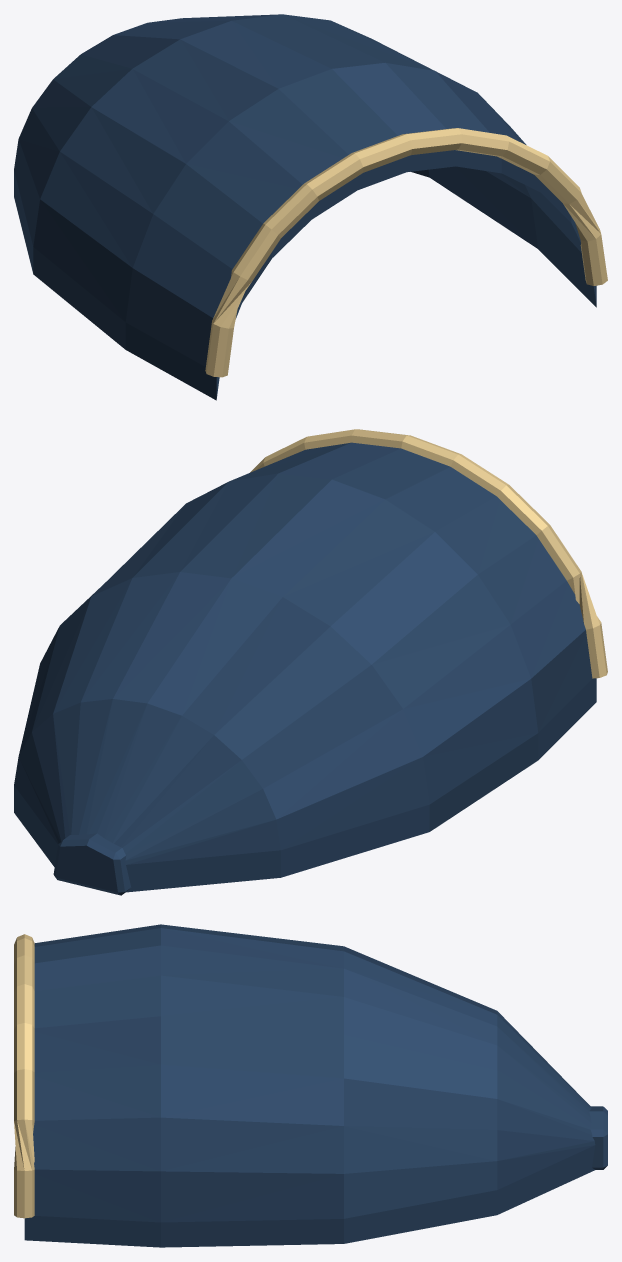
File: ES_07_Tailored_Closed_Vamp.fbx
3 views of the same model, one above another, from view 1: azimuth 30°, elevation 25°; view 2: azimuth 150°, elevation 25°; view 3: azimuth 270°, elevation 25° (orthographic). The views are drawn at different scales.
Visible parts, largest first — view 1: ES_07_Tailored_Closed_Vamp; view 2: ES_07_Tailored_Closed_Vamp; view 3: ES_07_Tailored_Closed_Vamp.
Part boxes in pixels (<box>): ES_07_Tailored_Closed_Vamp: <box>14,14,607,400</box>; ES_07_Tailored_Closed_Vamp: <box>14,429,607,895</box>; ES_07_Tailored_Closed_Vamp: <box>14,924,607,1247</box>.
Bounding box in the file's own units: 1.02 × 0.545 × 1.39.
2 materials, 2 textured.
